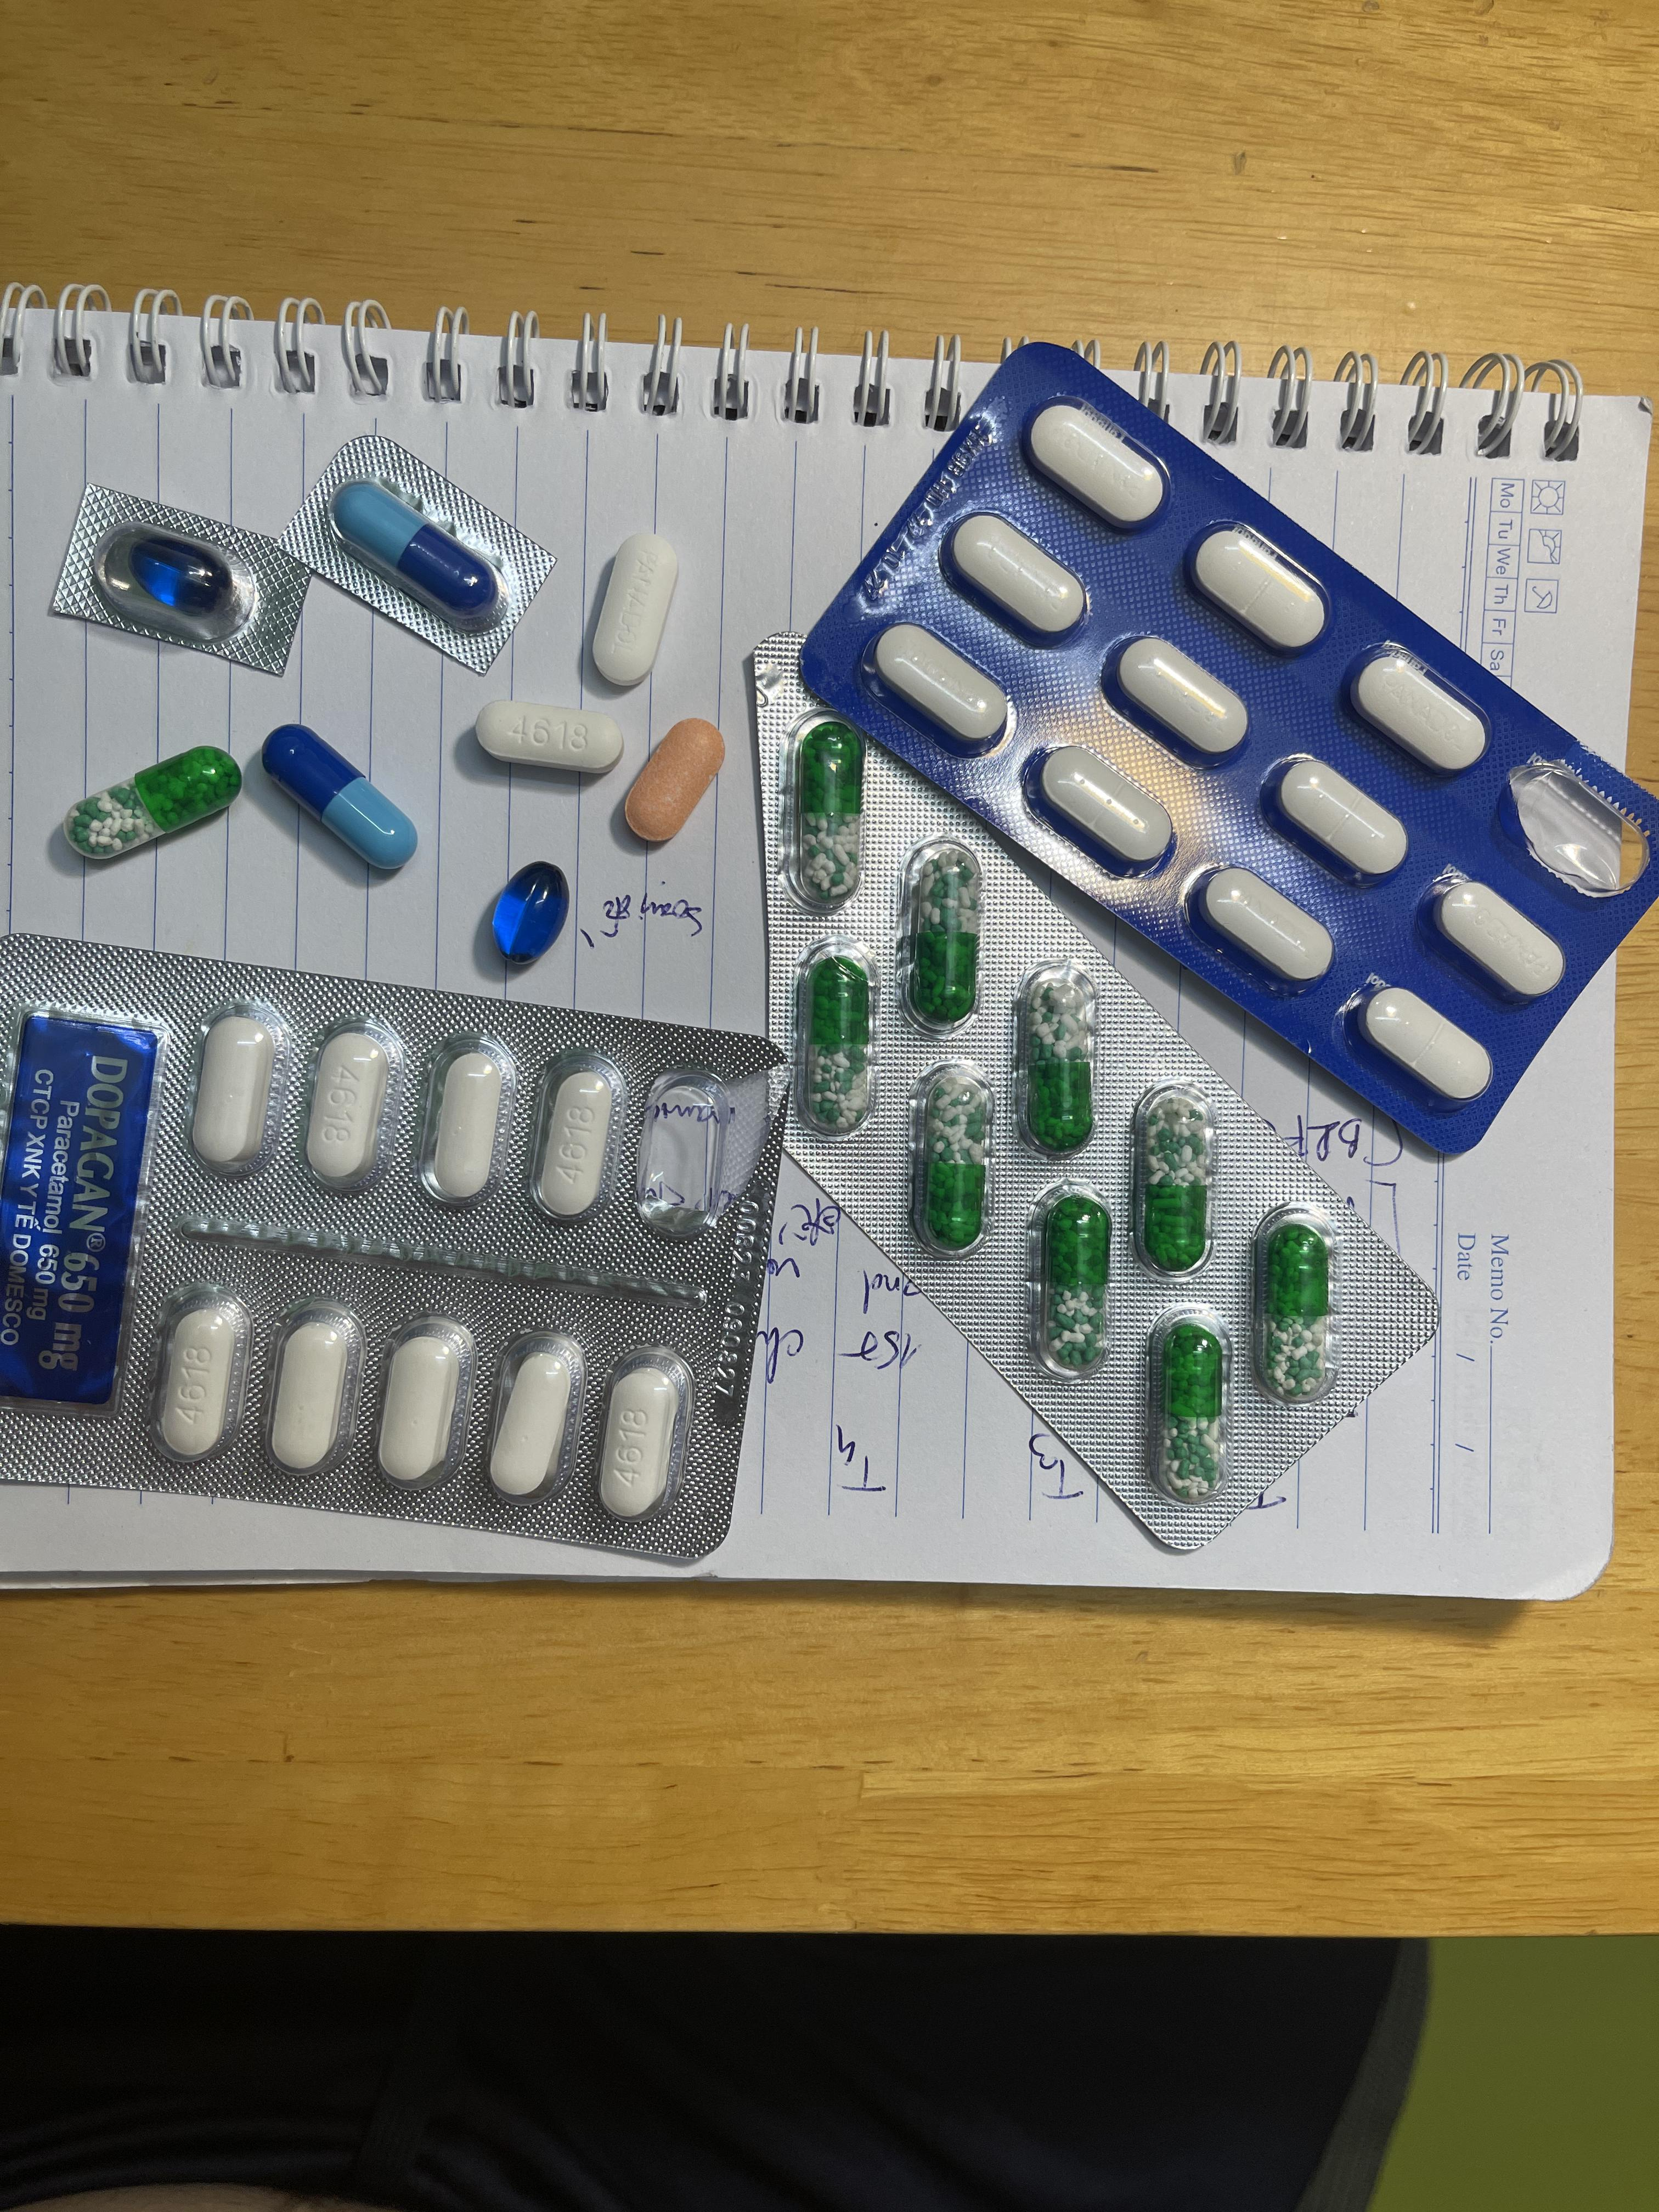Lincomyxin_500mg: (490, 859, 570, 967), (124, 536, 232, 613)
Loratadine_10mg: (622, 718, 723, 843)
Paracetamol_350mg: (945, 512, 1089, 646), (1349, 648, 1495, 775), (1188, 526, 1326, 657), (1025, 399, 1162, 529), (1262, 754, 1405, 880), (1425, 876, 1563, 1005), (1035, 747, 1175, 873), (873, 627, 1007, 751), (1114, 641, 1248, 765), (1194, 869, 1330, 989), (1354, 981, 1493, 1097), (591, 535, 680, 686)
Paracetamol_500mg: (148, 1287, 247, 1465), (371, 1317, 472, 1491), (263, 1301, 362, 1477), (185, 1007, 281, 1172), (300, 1026, 397, 1188), (594, 1353, 685, 1521), (423, 1042, 514, 1202), (488, 1343, 577, 1501), (533, 1057, 619, 1216), (477, 702, 626, 775)
Paracetamol_650mg: (63, 747, 235, 864), (1026, 1186, 1115, 1378), (1129, 1089, 1220, 1275), (908, 1064, 995, 1252), (897, 845, 985, 1028), (1147, 1315, 1229, 1501), (1018, 968, 1101, 1150), (798, 948, 877, 1130), (1260, 1217, 1330, 1397), (796, 726, 863, 894)
pill: (333, 477, 498, 620), (258, 725, 415, 874)
